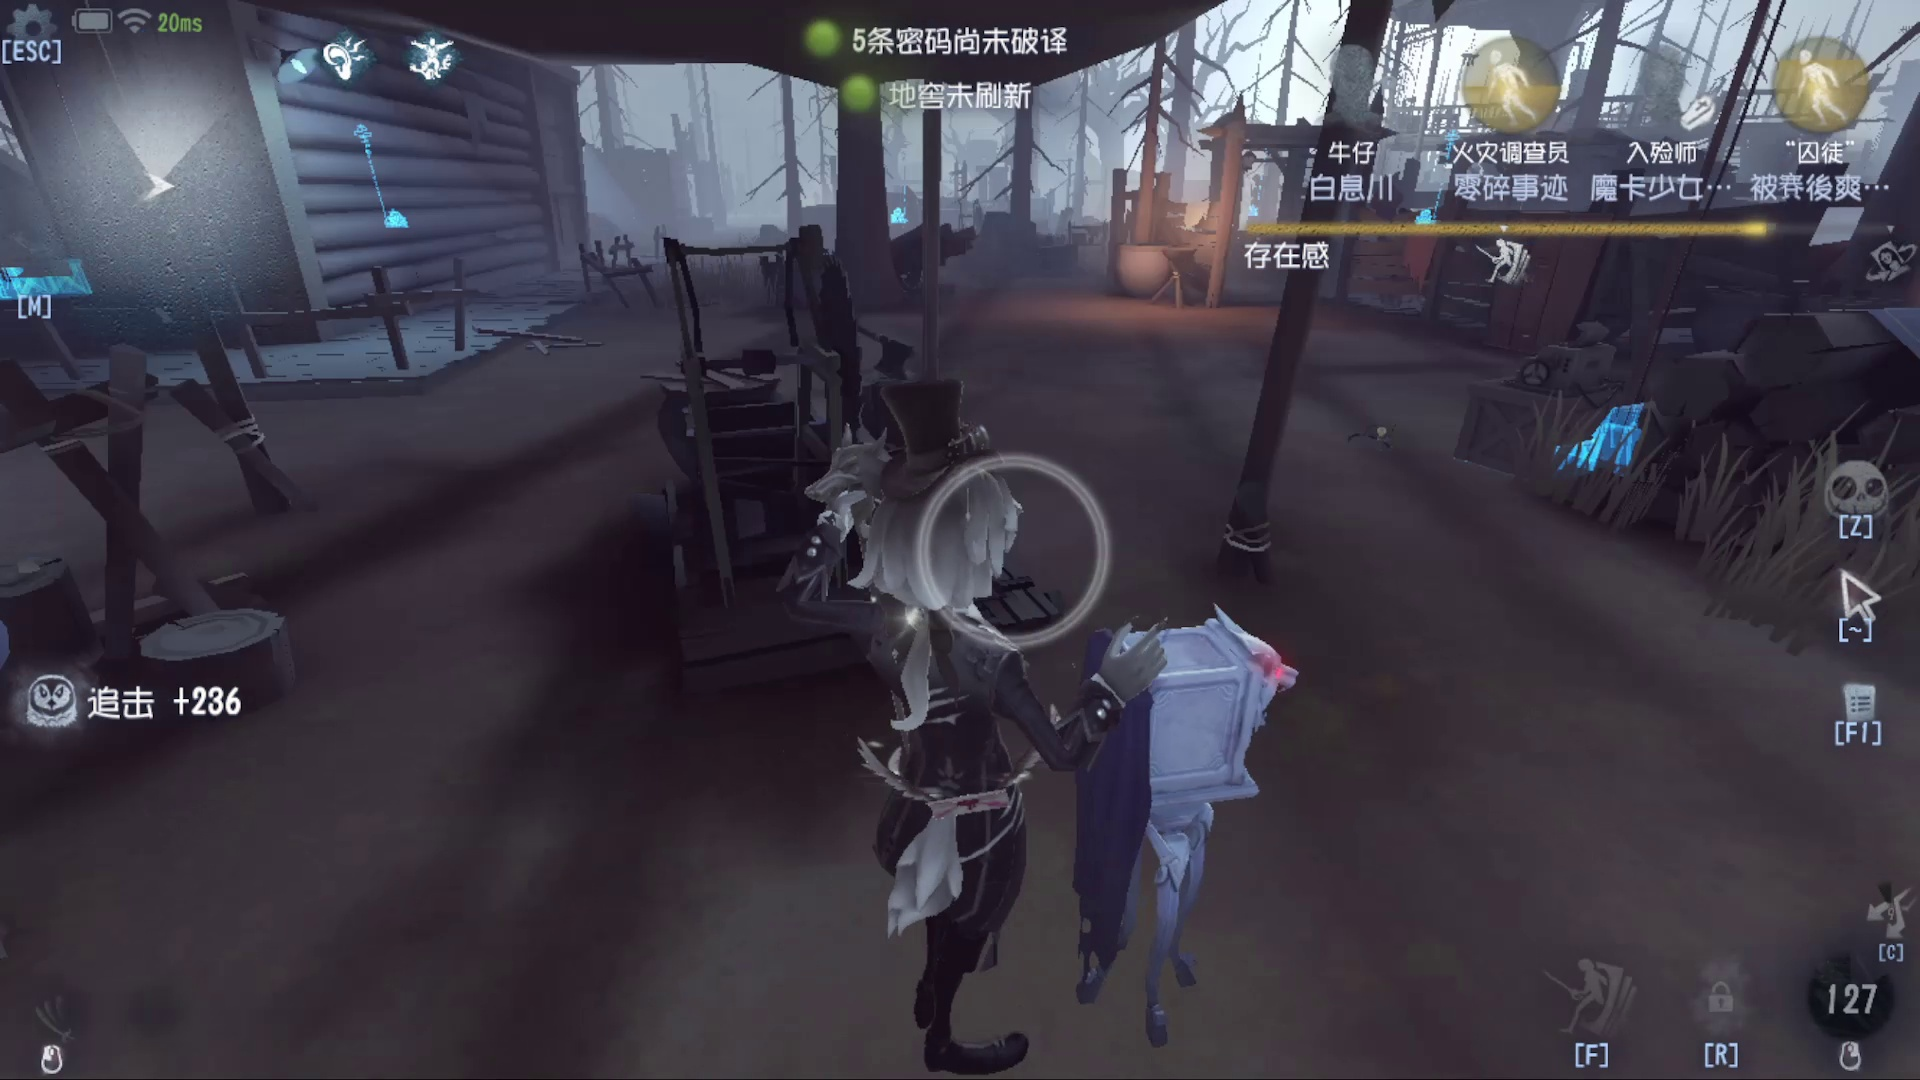密码机: (1474, 272, 1646, 512), (3, 193, 185, 331), (338, 111, 427, 245), (887, 135, 922, 256)
